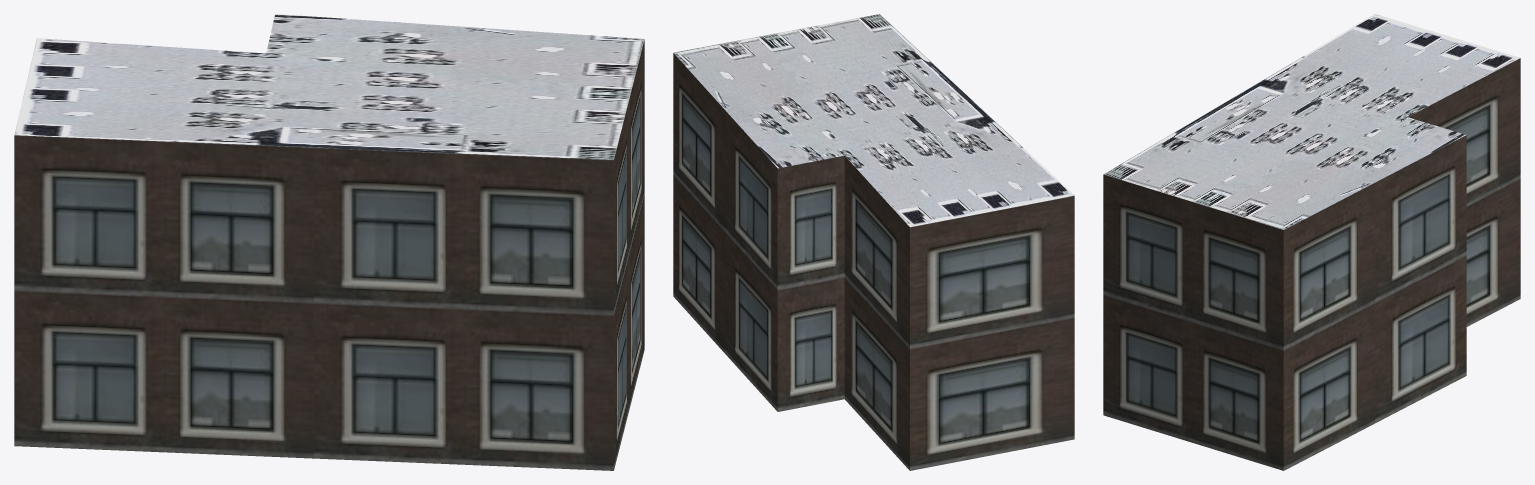
The model's file is ResTex__4710.fbx.
3 views of the same model, side by side, from view 1: azimuth 30°, elevation 25°; view 2: azimuth 150°, elevation 25°; view 3: azimuth 270°, elevation 25° (orthographic). The views are drawn at different scales.
Visible parts, largest first — view 1: CityEngineMaterial_16_m, CityEngineMaterial_15_m; view 2: CityEngineMaterial_16_m, CityEngineMaterial_15_m; view 3: CityEngineMaterial_16_m, CityEngineMaterial_15_m.
Part boxes in pixels (bbox=[...]): CityEngineMaterial_16_m: bbox=[14, 40, 644, 470]; CityEngineMaterial_15_m: bbox=[14, 14, 644, 159]; CityEngineMaterial_16_m: bbox=[673, 53, 1074, 470]; CityEngineMaterial_15_m: bbox=[673, 14, 1074, 227]; CityEngineMaterial_16_m: bbox=[1103, 58, 1520, 470]; CityEngineMaterial_15_m: bbox=[1103, 14, 1519, 229].
Bounding box in the file's own units: 11.54 × 6 × 9.42.
2 materials, 2 textured.
